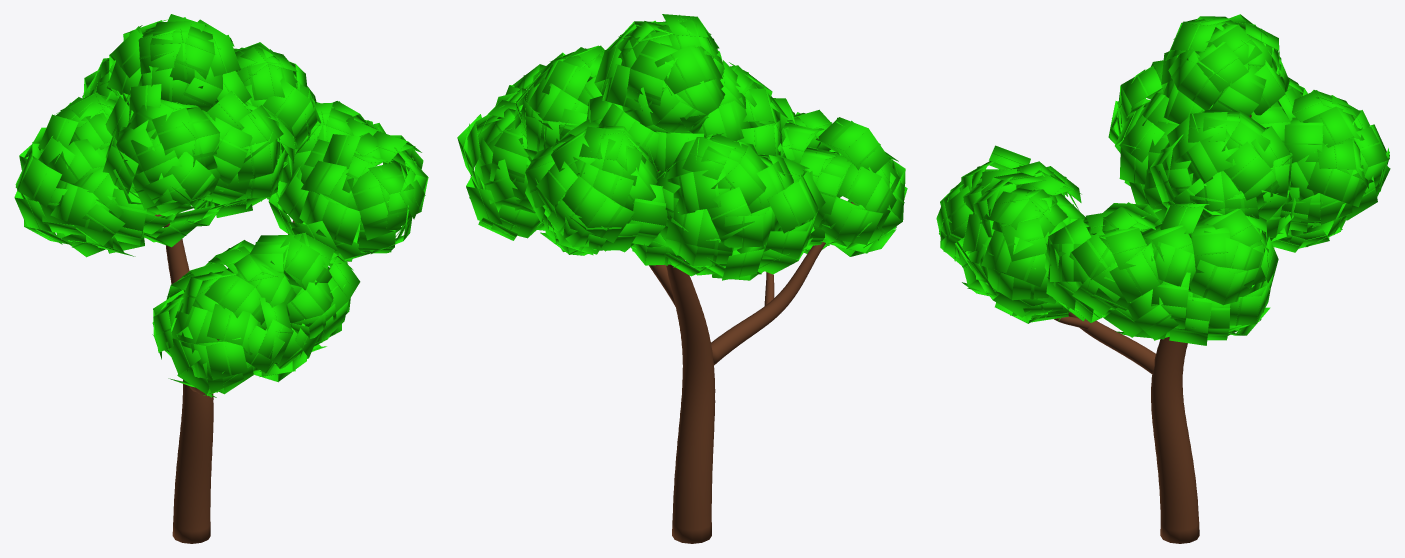
File: Tree001_Solid.fbx
3 views of the same model, side by side, from view 1: azimuth 30°, elevation 25°; view 2: azimuth 150°, elevation 25°; view 3: azimuth 270°, elevation 25° (orthographic). The views are drawn at different scales.
Parts seen in each view (by area): view 1: Trunk.001, Plane.192, Plane.160, Plane.241, Plane.019, Plane.236, Plane.077, Plane.099, Plane.238, Plane.159, Plane.038, Plane.028 (+66 smaller); view 2: Trunk.001, Branch1.001, Plane.050, Plane.237, Plane.072, Plane.210, Plane.222, Plane.080, Plane.036, Plane.029, Plane.023, Plane.030 (+53 smaller); view 3: Trunk.001, Plane.175, Plane.251, Plane.008, Plane.107, Plane.188, Plane.007, Plane.043, Plane.066, Plane.065, Plane.227, Branch1.001 (+59 smaller).
Part boxes in pixels (bbox=[...]): Trunk.001: bbox=[163, 215, 213, 543]; Plane.192: bbox=[299, 191, 360, 245]; Plane.160: bbox=[347, 168, 401, 240]; Plane.241: bbox=[181, 337, 247, 380]; Plane.019: bbox=[262, 78, 317, 147]; Plane.236: bbox=[204, 269, 264, 324]; Plane.077: bbox=[169, 26, 215, 88]; Plane.099: bbox=[152, 107, 206, 167]; Plane.238: bbox=[270, 235, 331, 290]; Plane.159: bbox=[368, 162, 414, 229]; Plane.038: bbox=[47, 139, 109, 183]; Plane.028: bbox=[50, 180, 112, 232]; Trunk.001: bbox=[657, 170, 715, 543]; Branch1.001: bbox=[711, 202, 855, 365]; Plane.050: bbox=[562, 176, 634, 242]; Plane.237: bbox=[815, 117, 889, 173]; Plane.072: bbox=[626, 40, 678, 105]; Plane.210: bbox=[813, 196, 883, 244]; Plane.222: bbox=[837, 160, 896, 229]; Plane.080: bbox=[654, 45, 722, 95]; Plane.036: bbox=[667, 167, 733, 215]; Plane.029: bbox=[767, 174, 818, 233]; Plane.023: bbox=[665, 205, 732, 251]; Plane.030: bbox=[724, 206, 780, 247]; Trunk.001: bbox=[1151, 114, 1251, 543]; Plane.175: bbox=[1188, 259, 1258, 305]; Plane.251: bbox=[981, 230, 1046, 287]; Plane.008: bbox=[1223, 141, 1279, 209]; Plane.107: bbox=[1168, 44, 1227, 109]; Plane.188: bbox=[1109, 242, 1163, 303]; Plane.007: bbox=[1175, 130, 1240, 183]; Plane.043: bbox=[1306, 153, 1366, 207]; Plane.066: bbox=[1210, 63, 1266, 116]; Plane.065: bbox=[1186, 41, 1248, 92]; Plane.227: bbox=[983, 191, 1056, 237]; Branch1.001: bbox=[1068, 312, 1155, 373].
Size of the model in its own units: 548 by 754 by 600.
